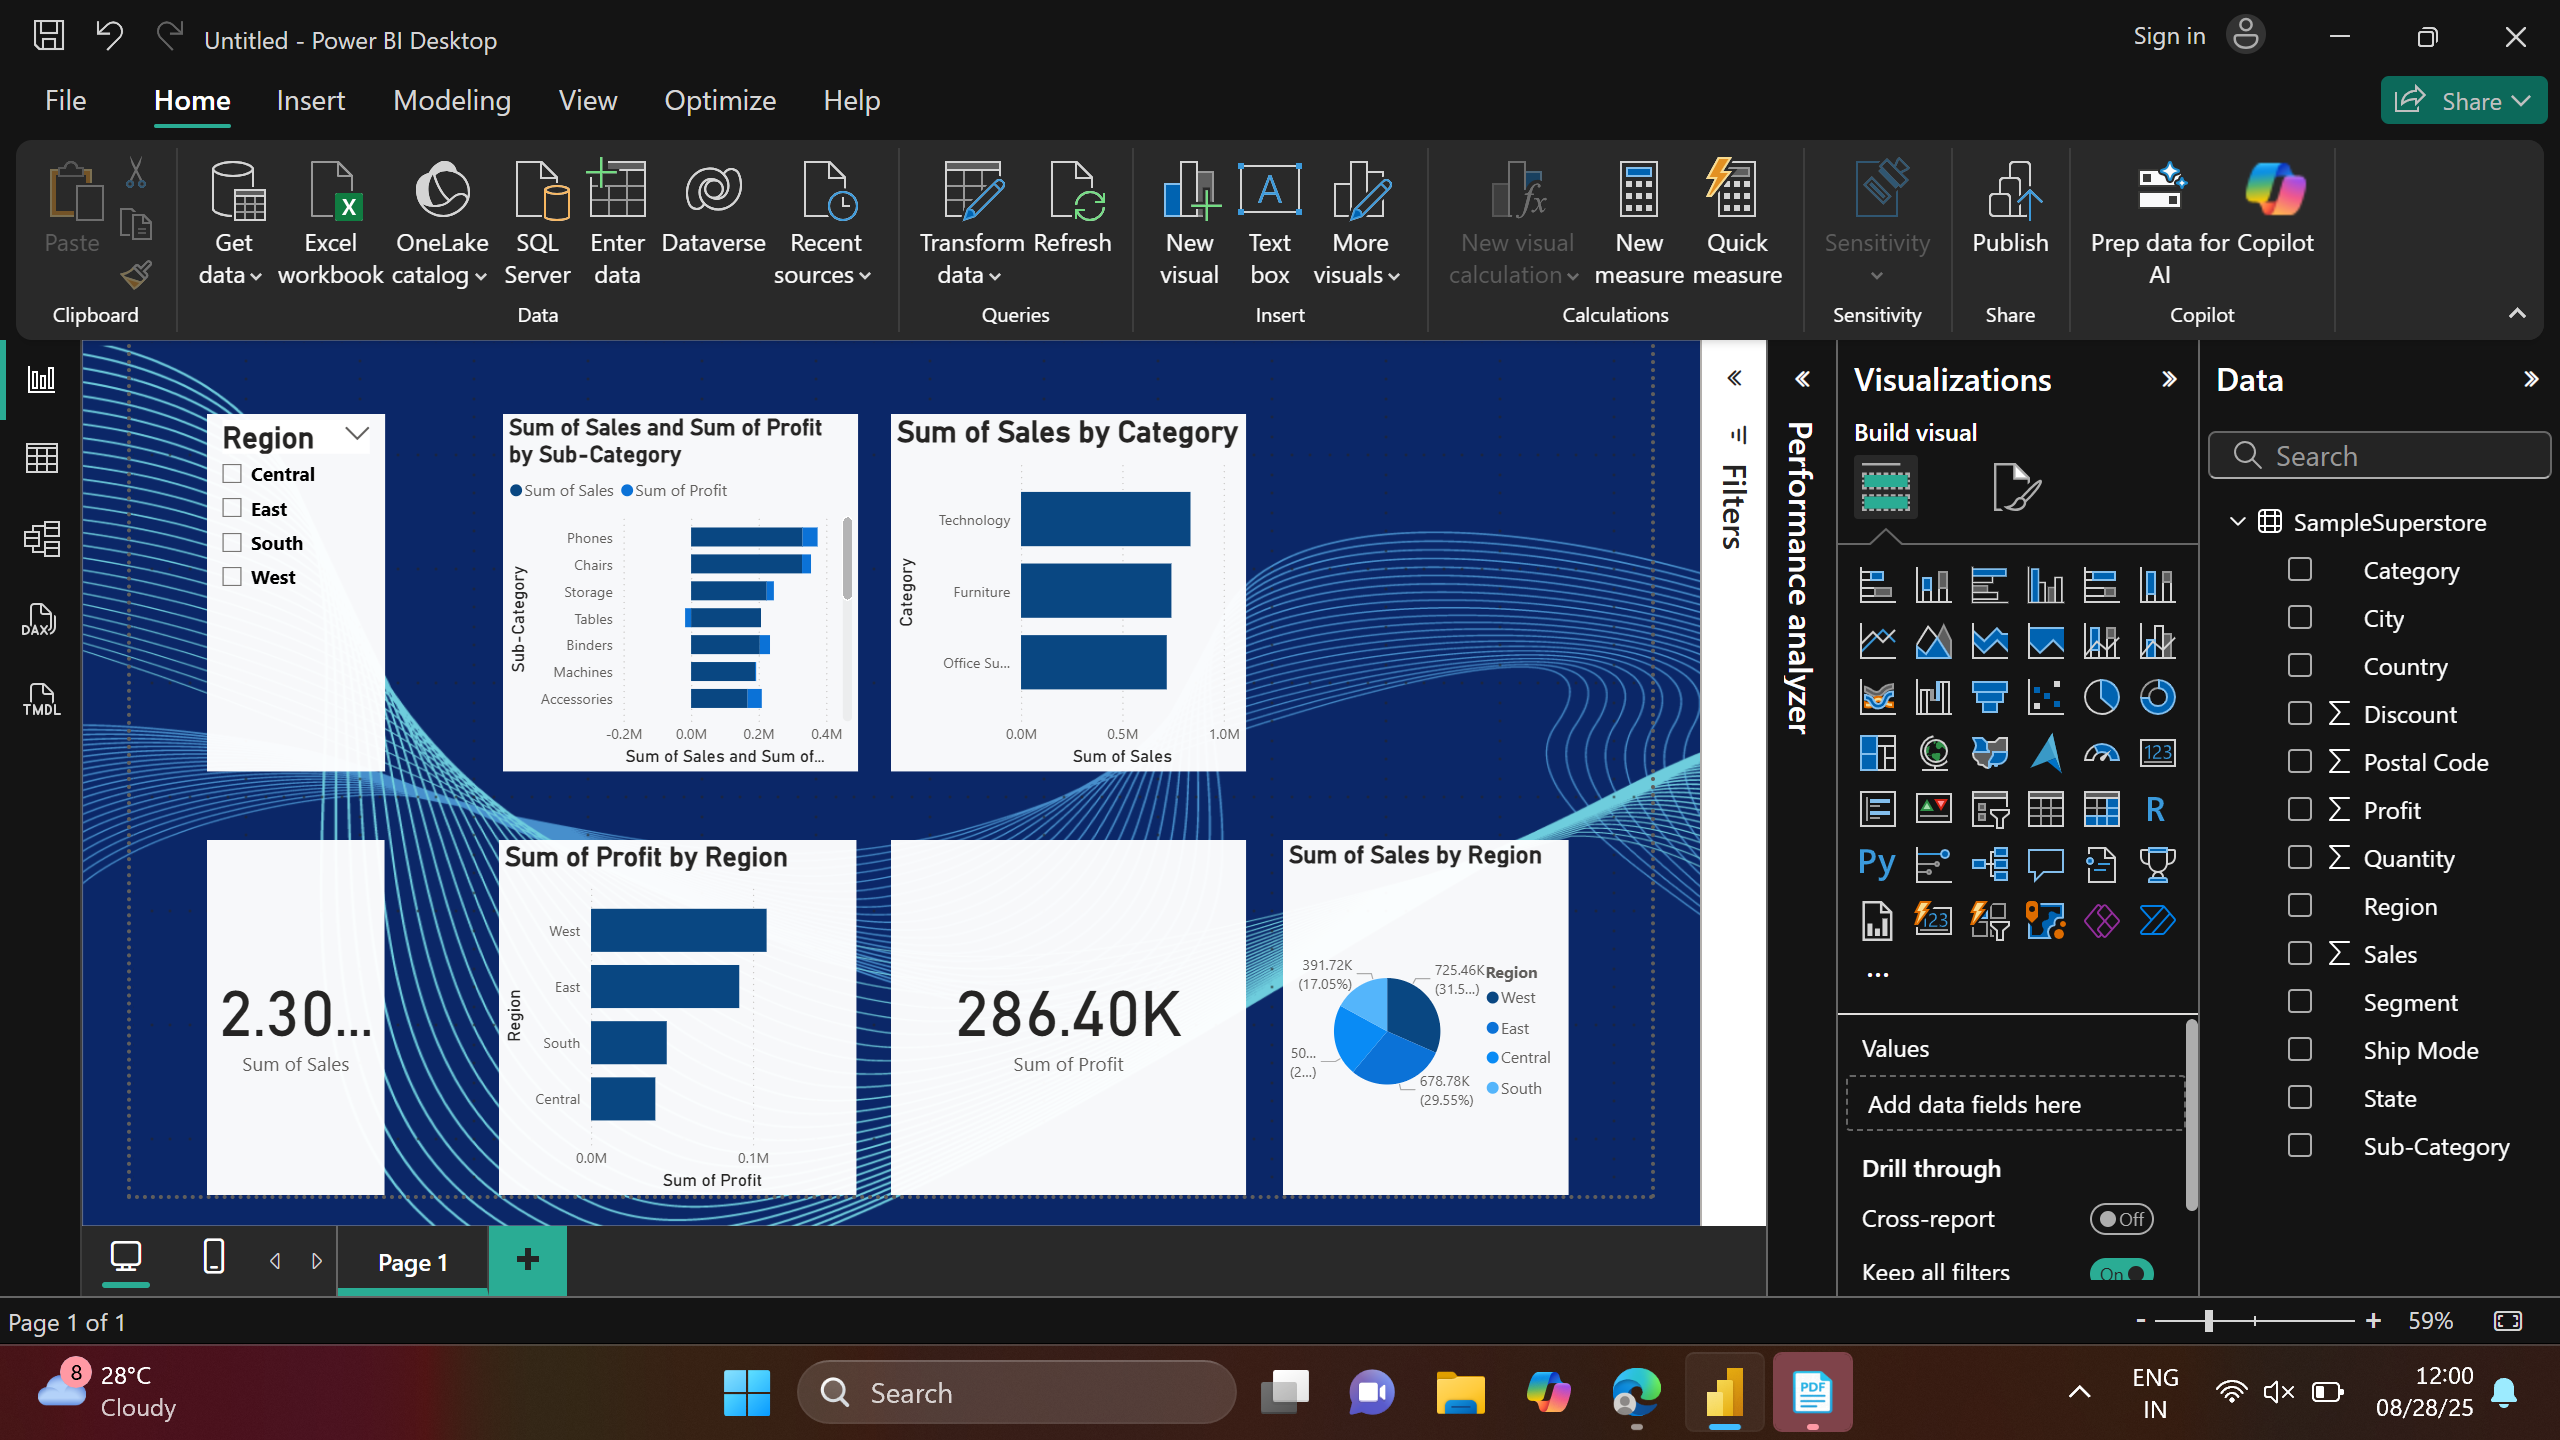

What the dashboard file says about the page in this screenshot:
{"tool":"powerbi","page":{"name":"Page 1","canvas":[1280,720],"ordinal":0},"visuals":[{"type":"barChart","fields":{"Category":["SampleSuperstore.Category"],"Y":["Sum(SampleSuperstore.Sales)"]},"box":[640,62.5,299.2,301.1],"z":0},{"type":"barChart","fields":{"Category":["SampleSuperstore.Region"],"Y":["Sum(SampleSuperstore.Profit)"]},"box":[310.5,420.4,301.1,299.2],"z":1000},{"type":"barChart","fields":{"Category":["SampleSuperstore.Sub-Category"],"Y":["Sum(SampleSuperstore.Sales)","Sum(SampleSuperstore.Profit)"]},"box":[312.4,62.5,299.2,301.1],"z":2000},{"type":"card","fields":{"Values":["Sum(SampleSuperstore.Sales)"]},"box":[64.4,420.4,149.6,299.2],"z":3000},{"type":"card","fields":{"Values":["Sum(SampleSuperstore.Profit)"]},"box":[640,420.4,299.2,299.2],"z":4000},{"type":"pieChart","fields":{"Category":["SampleSuperstore.Region"],"Y":["Sum(SampleSuperstore.Sales)"]},"box":[969.5,420.4,240.5,299.2],"z":5000},{"type":"slicer","fields":{"Values":["SampleSuperstore.Region"]},"box":[64,62,150,301],"z":5001}]}

Visuals, with their boxes on the page's 1280x720 design canvas (x1, y1, x2, y2). These are canvas units, not pixel positions in the 2560x1440 screenshot, which may show the page scaled, cropped or inside an application window:
barChart - SampleSuperstore.Category x Sum(SampleSuperstore.Sales): (x1=640, y1=62, x2=939, y2=364)
barChart - SampleSuperstore.Region x Sum(SampleSuperstore.Profit): (x1=310, y1=420, x2=612, y2=720)
barChart - SampleSuperstore.Sub-Category x Sum(SampleSuperstore.Sales): (x1=312, y1=62, x2=612, y2=364)
card - Sum(SampleSuperstore.Sales): (x1=64, y1=420, x2=214, y2=720)
card - Sum(SampleSuperstore.Profit): (x1=640, y1=420, x2=939, y2=720)
pieChart - SampleSuperstore.Region x Sum(SampleSuperstore.Sales): (x1=970, y1=420, x2=1210, y2=720)
slicer - SampleSuperstore.Region: (x1=64, y1=62, x2=214, y2=363)
